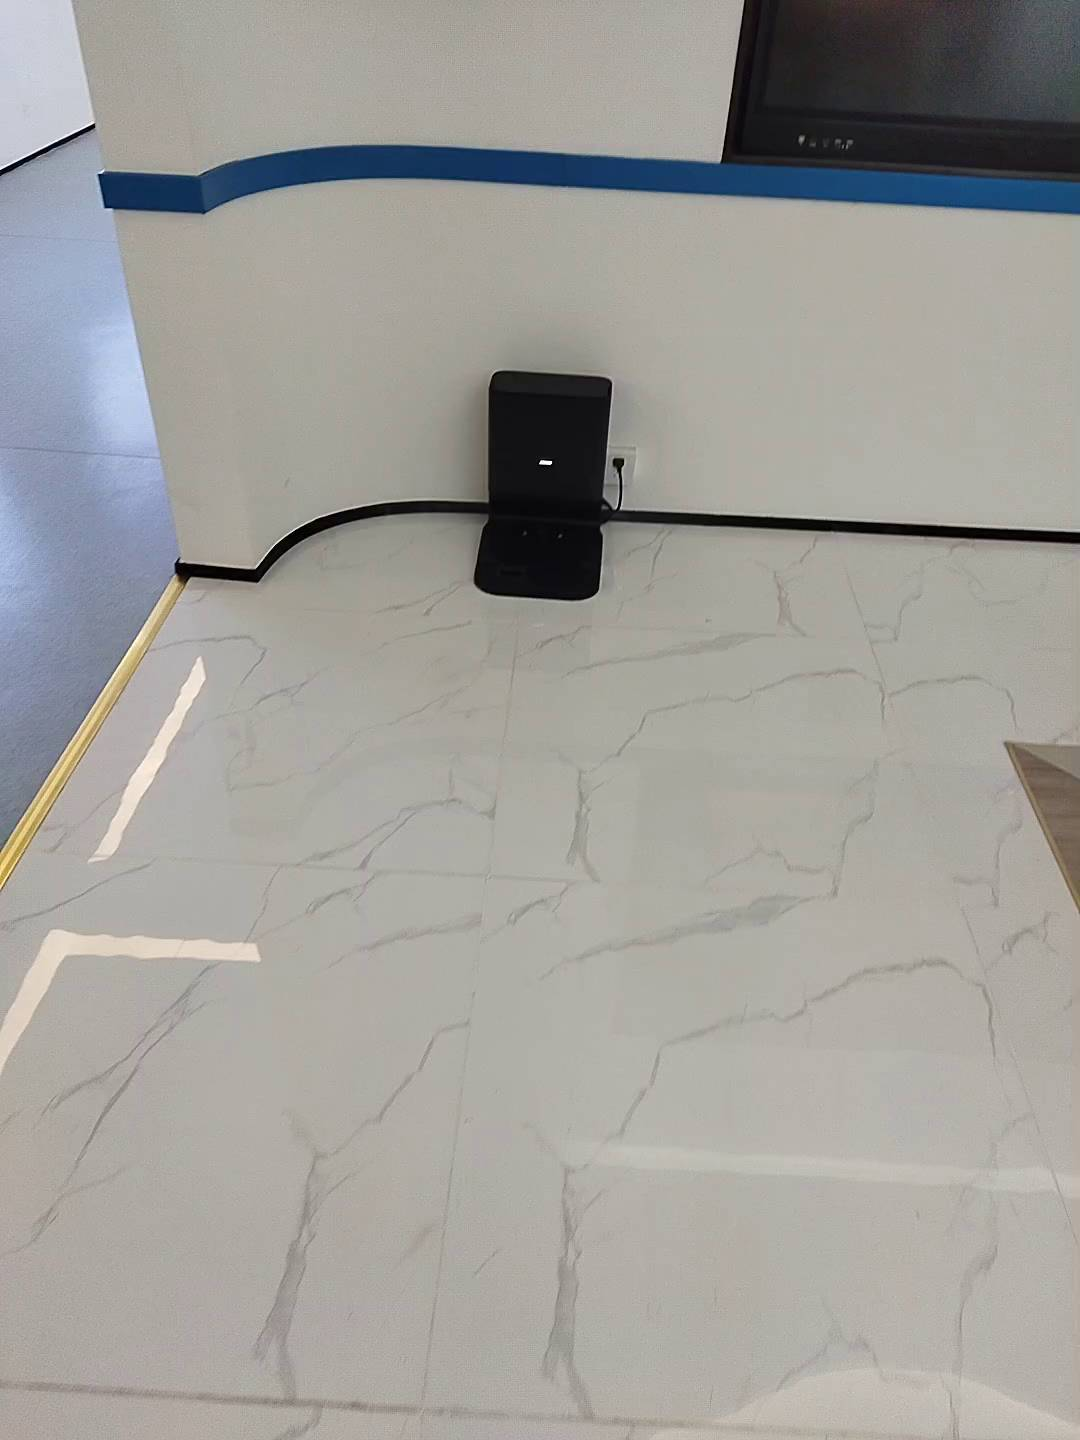dust collecting barrel: (475, 369, 614, 602)
